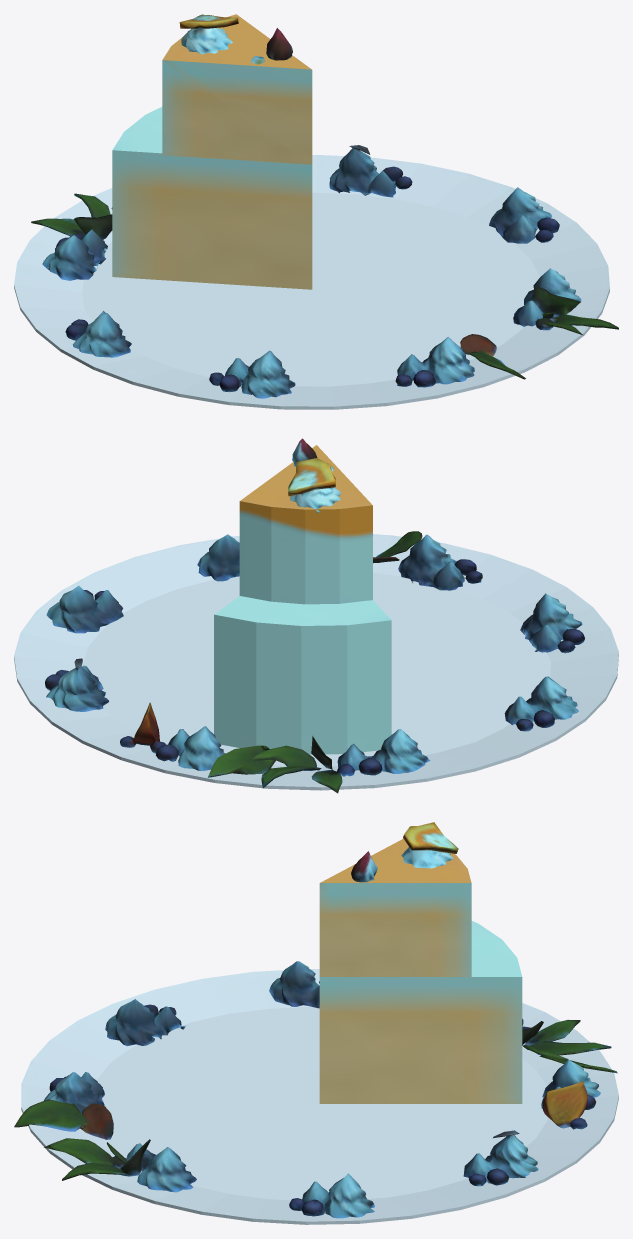
Rendered from denia_cake_6.obj.
3 renders of one model, top to bottom at view 1: azimuth 30°, elevation 25°; view 2: azimuth 150°, elevation 25°; view 3: azimuth 270°, elevation 25°, orthographic.
Parts seen in each view (by area): view 1: cake; view 2: cake; view 3: cake.
Part boxes in pixels (box(x1,y1,x2,y2)): cake: box(14, 14, 618, 409); cake: box(14, 438, 618, 793); cake: box(14, 822, 618, 1224).
Size of the model in its own units: 0.959 by 0.4469 by 0.9697.
